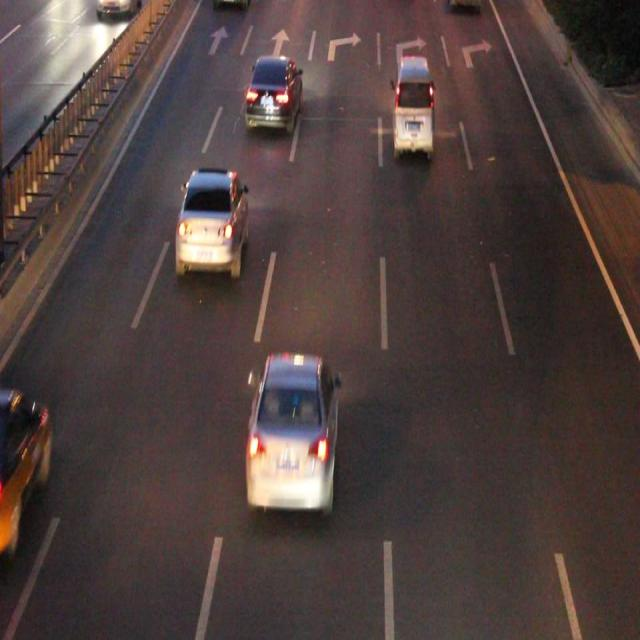car: (248, 356, 334, 507), (1, 386, 50, 554), (177, 172, 246, 268), (246, 58, 300, 125)
truck: (392, 56, 432, 154)
